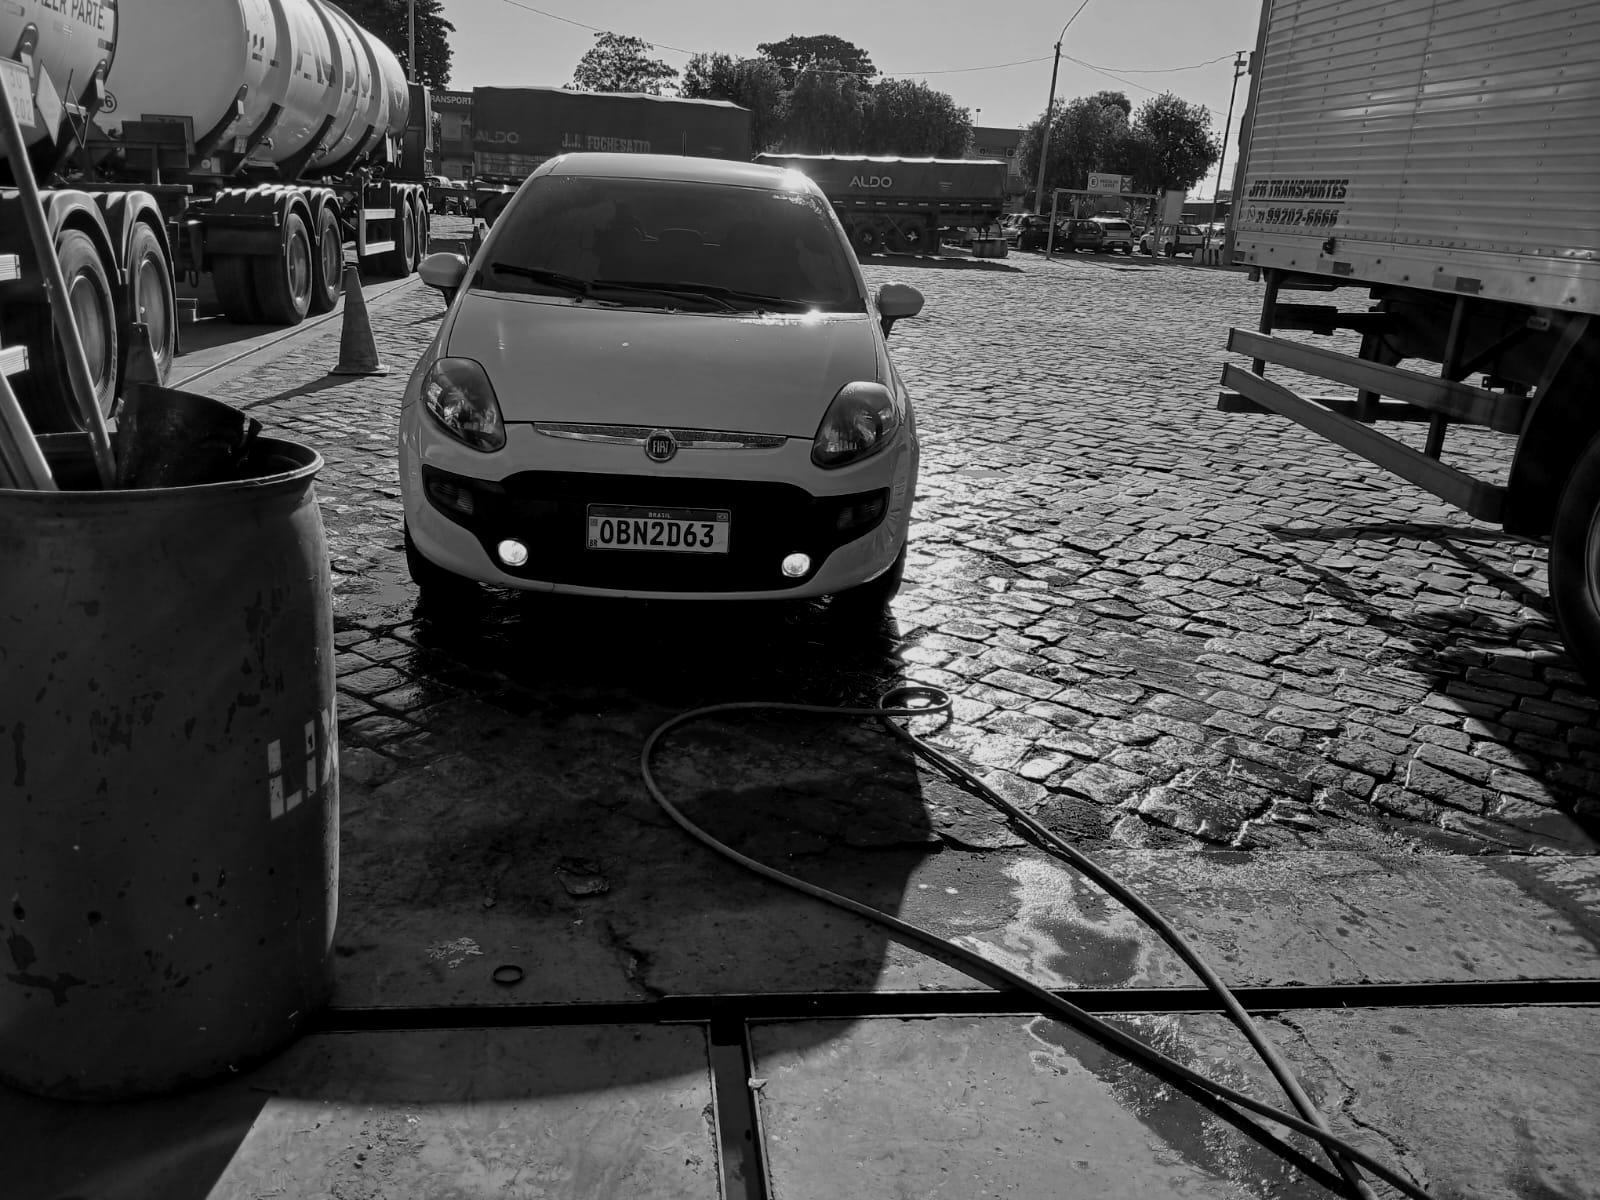placa_mercosul: (586, 504, 729, 554)
